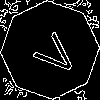V: (25, 25, 82, 80)
